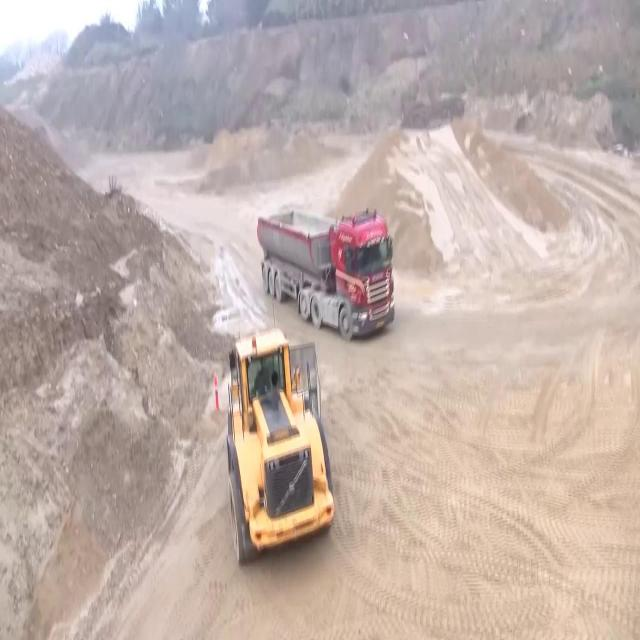Dump Truck: (255, 206, 395, 340)
Loader: (220, 330, 334, 562)
